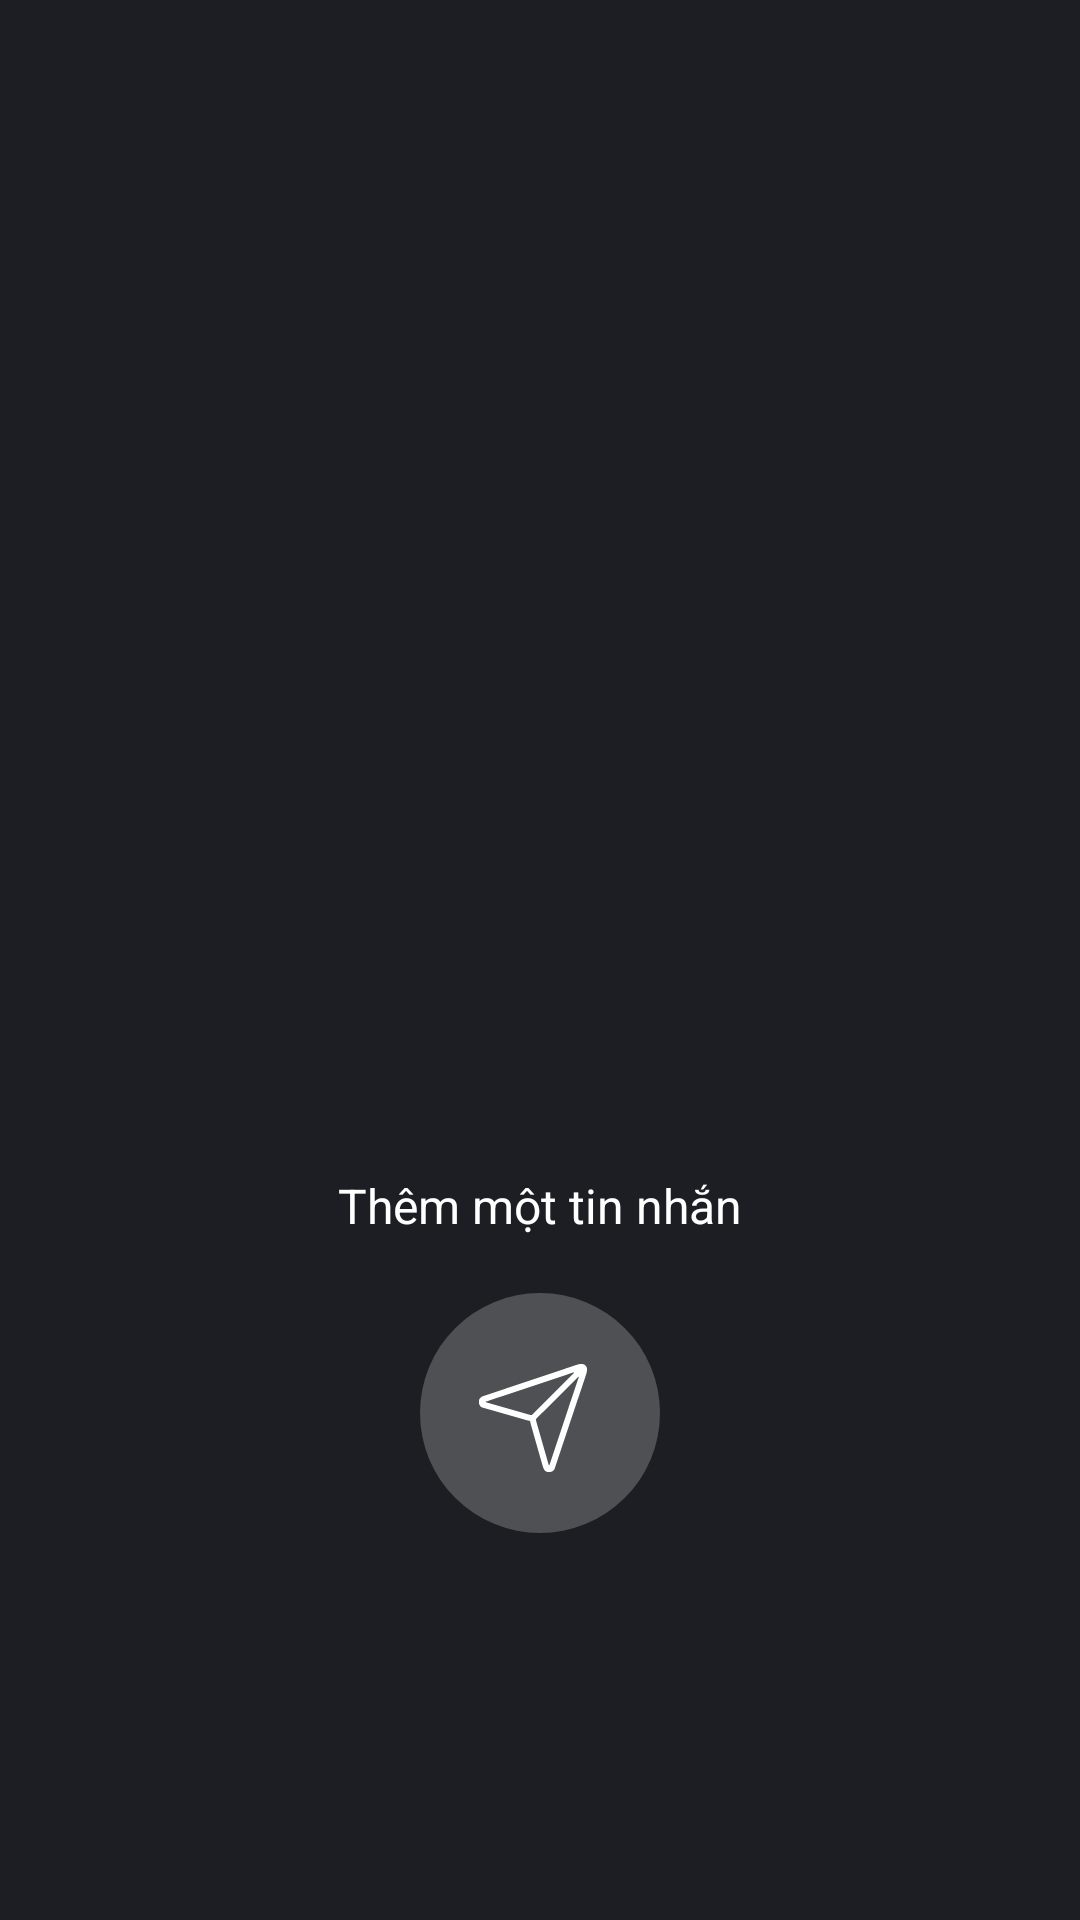

Locate icon controls on the screen. Image size 1080*1920, boxes as (x1, y1, x2, y2).
send: (479, 1364, 587, 1472)
